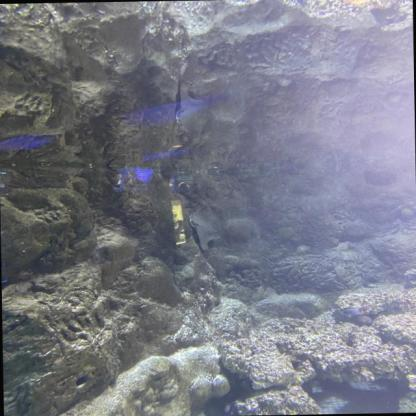stingray: (188, 206, 219, 252)
